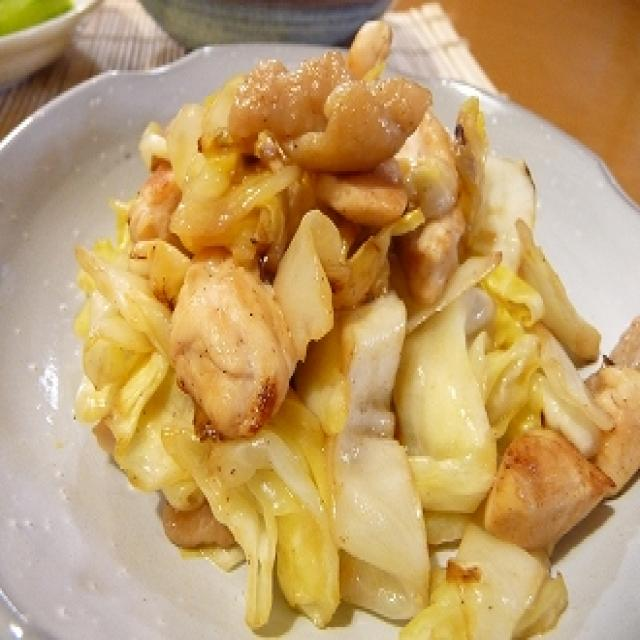蔬菜料理: (44, 39, 640, 640)
